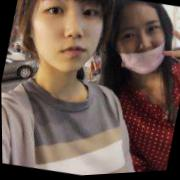NONE: (25, 1, 112, 81)
WRONG: (111, 10, 172, 81)
